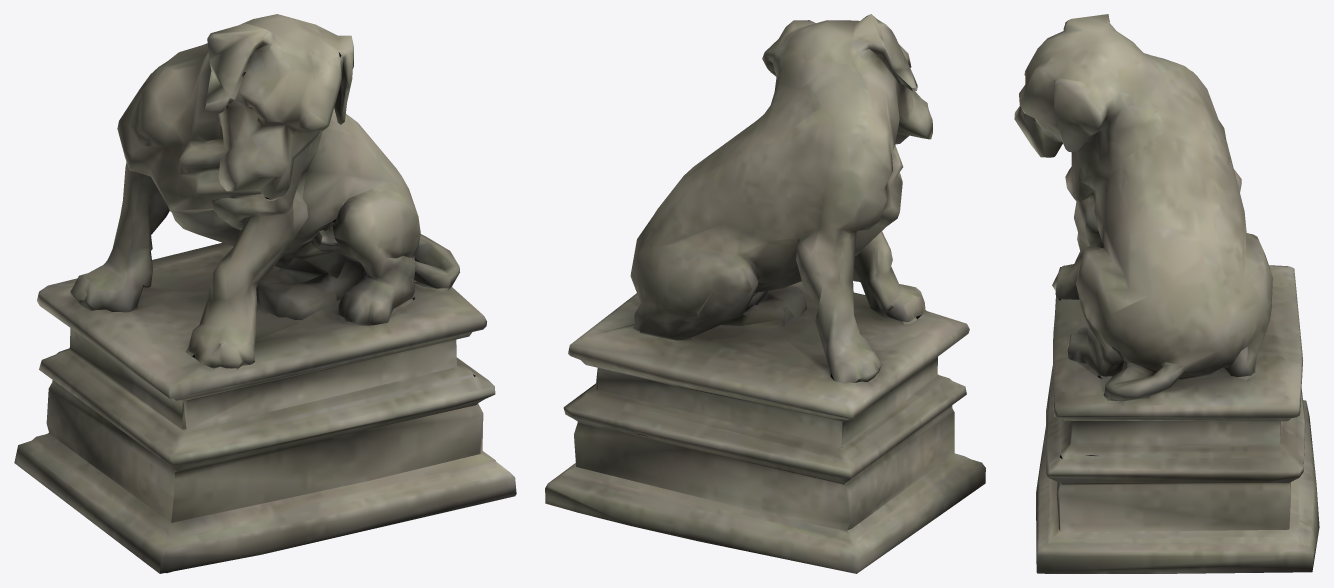
The model's file is worn-limestone-statue-v001.glb.
3 views of the same model, side by side, from view 1: azimuth 30°, elevation 25°; view 2: azimuth 150°, elevation 25°; view 3: azimuth 270°, elevation 25° (orthographic). The views are drawn at different scales.
Visible parts, largest first — view 1: worn-limestone-statue; view 2: worn-limestone-statue; view 3: worn-limestone-statue.
Part boxes in pixels (x1,y1,x2,y2): worn-limestone-statue: (14,14,516,573); worn-limestone-statue: (545,14,985,573); worn-limestone-statue: (1014,14,1319,573).
Bounding box in the file's own units: 1.04 × 1.46 × 0.8778.
Materials: 1 (1 with a texture image).
